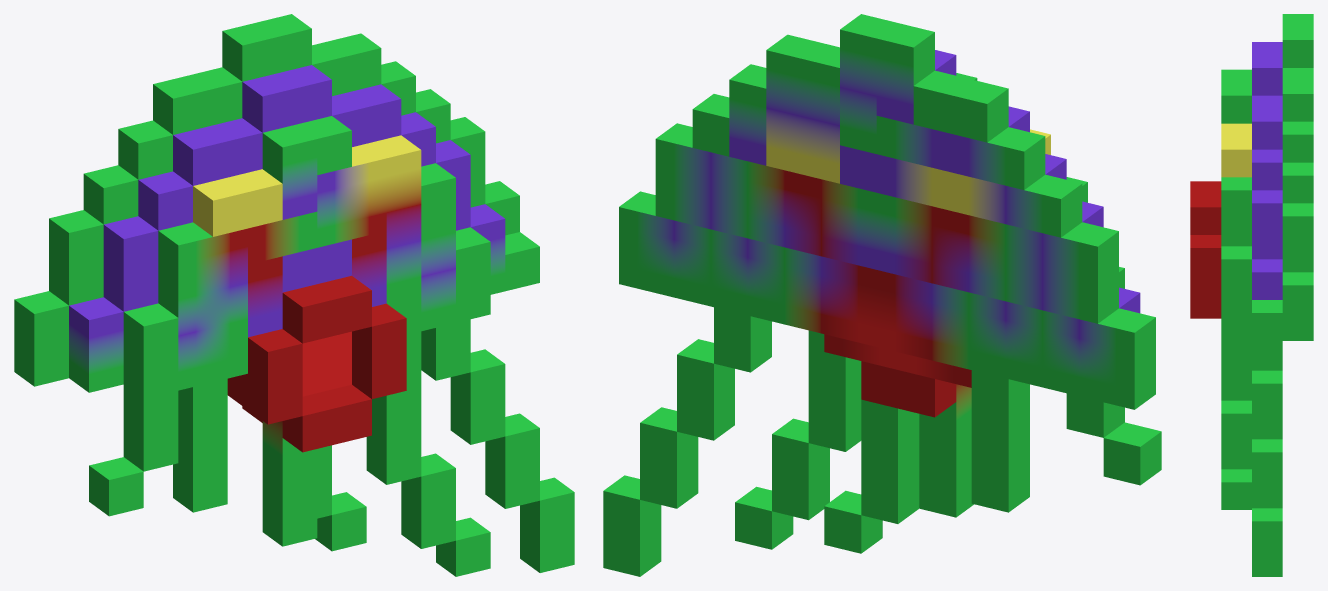
The model's file is Matrix_15.fbx.
3 views of the same model, side by side, from view 1: azimuth 30°, elevation 25°; view 2: azimuth 150°, elevation 25°; view 3: azimuth 270°, elevation 25° (orthographic). The views are drawn at different scales.
Visible parts, largest first — view 1: Matrix_15; view 2: Matrix_15; view 3: Matrix_15.
Part boxes in pixels (x1,y1,x2,y2): Matrix_15: [14, 14, 574, 576]; Matrix_15: [603, 14, 1161, 576]; Matrix_15: [1190, 14, 1313, 576].
Bounding box in the file's own units: 15 × 16 × 4.
